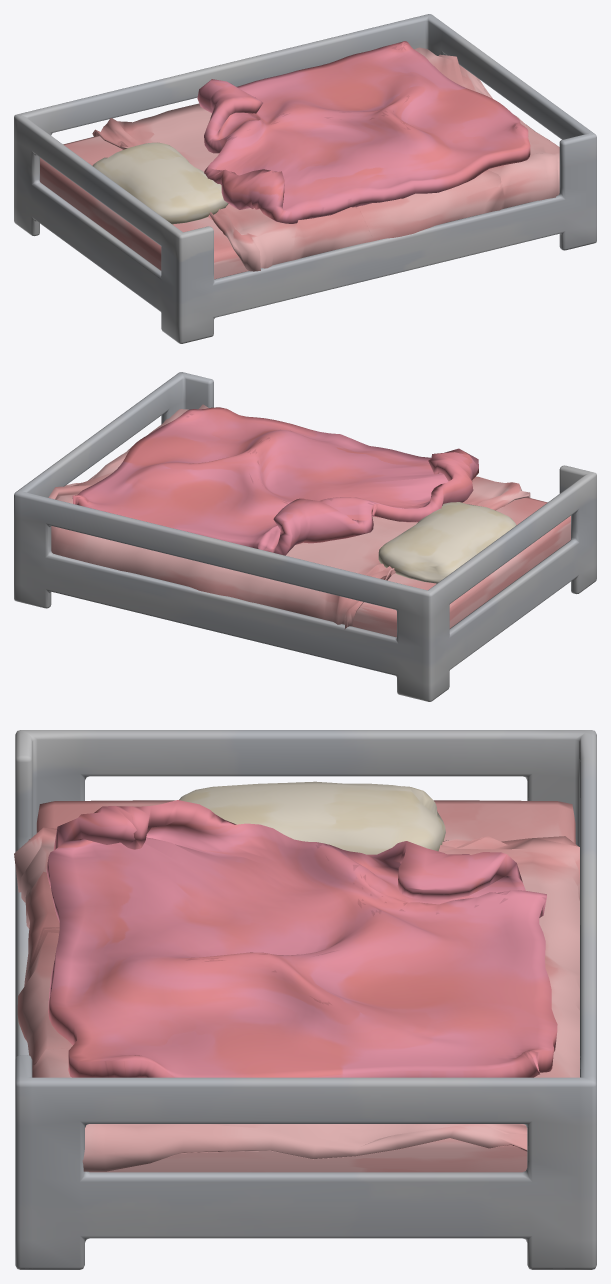
File: childhood-bed.fbx
3 renders of one model, top to bottom at view 1: azimuth 30°, elevation 25°; view 2: azimuth 150°, elevation 25°; view 3: azimuth 270°, elevation 25°, orthographic. The views are drawn at different scales.
Parts seen in each view (by area): view 1: Cube, Plane, Plane.001, Cube.004, Cube.002; view 2: Cube, Plane, Plane.001, Cube.004, Cube.002; view 3: Plane, Cube, Plane.001, Cube.002, Cube.004.
Part boxes in pixels (box(x1,y1,x2,y2)): Cube: box(14, 14, 596, 343); Plane: box(197, 41, 530, 223); Plane.001: box(92, 47, 559, 271); Cube.004: box(92, 142, 228, 224); Cube.002: box(40, 135, 558, 279); Cube: box(14, 372, 596, 701); Plane: box(72, 407, 478, 555); Plane.001: box(48, 404, 530, 629); Cube.004: box(378, 502, 516, 583); Cube.002: box(352, 497, 570, 637); Plane: box(46, 800, 557, 1077); Cube: box(15, 730, 596, 1269); Plane.001: box(14, 827, 579, 1171); Cube.002: box(36, 800, 575, 1172); Cube.004: box(179, 781, 445, 854).
Size of the model in its own units: 2.09 by 0.5781 by 1.44.
